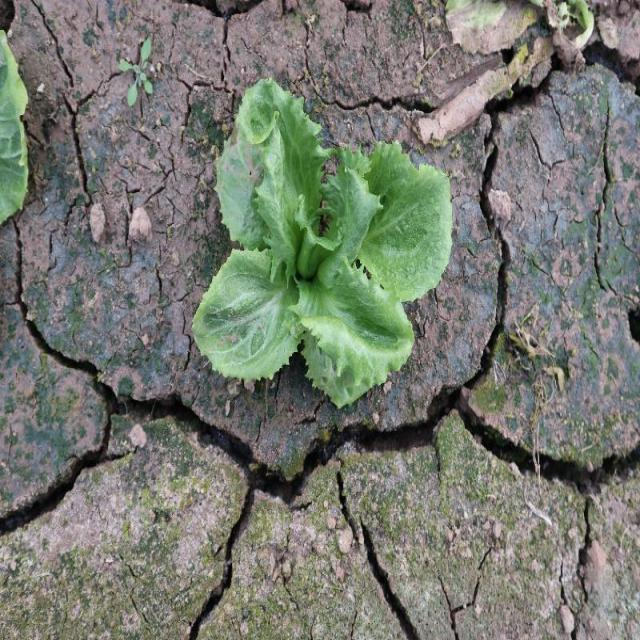crop: (190, 76, 456, 411)
